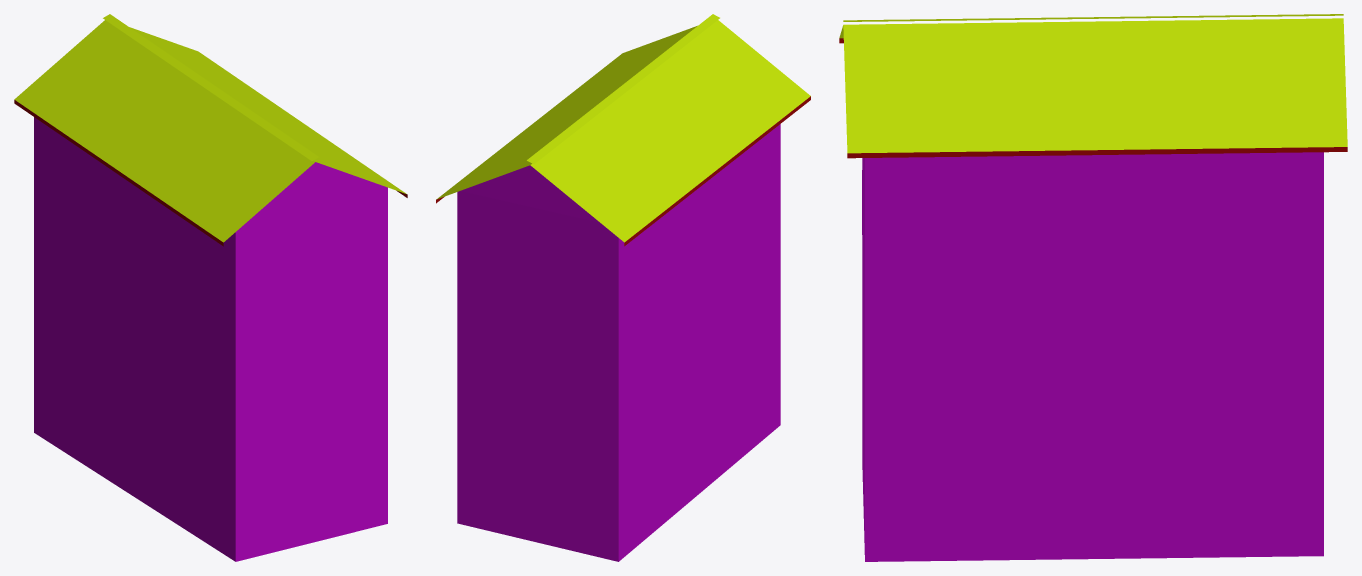
File: rmc_64.glb
3 views of the same model, side by side, from view 1: azimuth 30°, elevation 25°; view 2: azimuth 150°, elevation 25°; view 3: azimuth 270°, elevation 25° (orthographic). The views are drawn at different scales.
Parts seen in each view (by area): view 1: rmc_64; view 2: rmc_64; view 3: rmc_64.
Boxes of the visible parts, x1,y1,x2,y2 form: rmc_64: (14, 14, 407, 561); rmc_64: (436, 14, 810, 561); rmc_64: (839, 14, 1347, 561).
Bounding box in the file's own units: 6.33 × 11.98 × 11.21.
